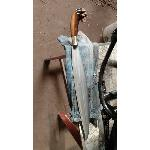Golok: (68, 3, 94, 146)
